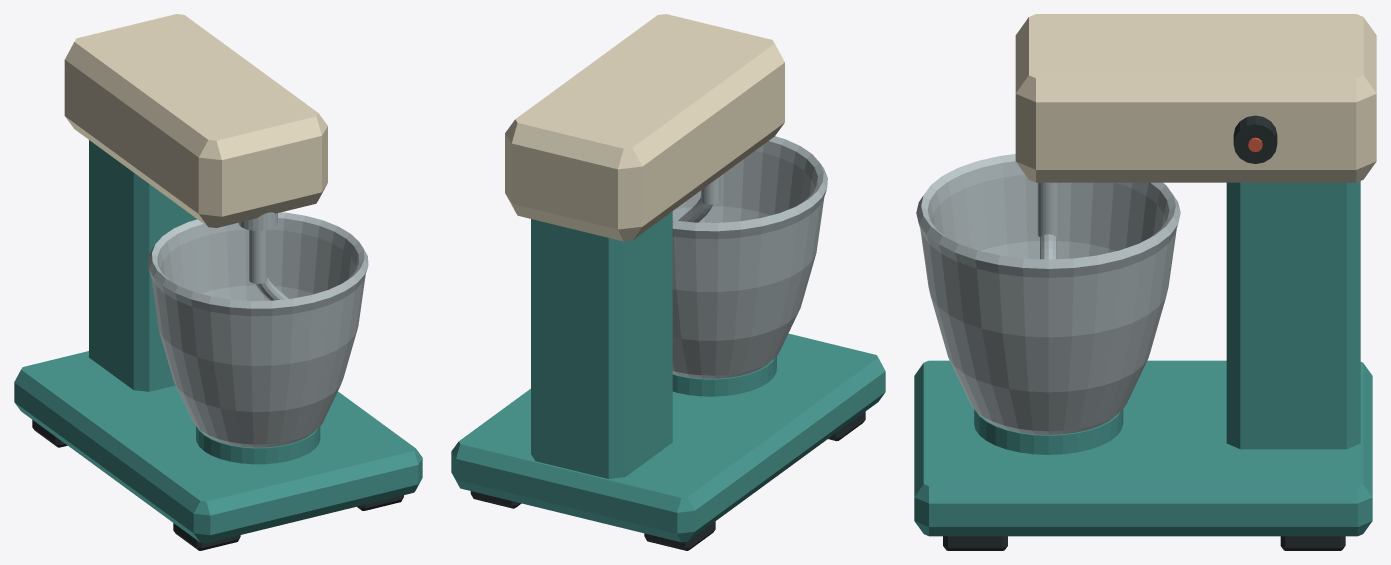
The picture shows the model from 3 angles, left to right: view 1: azimuth 30°, elevation 25°; view 2: azimuth 150°, elevation 25°; view 3: azimuth 270°, elevation 25°; orthographic projection. The views are drawn at different scales.
Visible parts, largest first — view 1: OpenMixingBowl, MotorHead, MixerBase, RearColumn, BowlSupportSeat, DriveShaft, RubberFoot_LeftFront, DriveCollar; view 2: MotorHead, MixerBase, RearColumn, OpenMixingBowl, BowlSupportSeat, RubberFoot_LeftBack; view 3: MotorHead, MixerBase, OpenMixingBowl, RearColumn, BowlSupportSeat, ControlKnob, DriveShaft, RubberFoot_RightBack, RubberFoot_RightFront.
Part boxes in pixels (left/top/right/bottom): OpenMixingBowl: left=148, top=212, right=368, bottom=447; MotorHead: left=64, top=14, right=327, bottom=227; MixerBase: left=14, top=351, right=422, bottom=543; RearColumn: left=89, top=140, right=196, bottom=391; BowlSupportSeat: left=196, top=426, right=320, bottom=464; DriveShaft: left=249, top=230, right=267, bottom=283; RubberFoot_LeftFront: left=173, top=523, right=240, bottom=550; DriveCollar: left=238, top=212, right=277, bottom=230; MotorHead: left=505, top=14, right=784, bottom=241; MixerBase: left=451, top=333, right=885, bottom=542; RearColumn: left=531, top=211, right=672, bottom=478; OpenMixingBowl: left=672, top=136, right=827, bottom=378; BowlSupportSeat: left=672, top=356, right=776, bottom=396; RubberFoot_LeftBack: left=644, top=521, right=715, bottom=550; MotorHead: left=1015, top=14, right=1376, bottom=182; MixerBase: left=914, top=360, right=1372, bottom=536; OpenMixingBowl: left=916, top=154, right=1180, bottom=434; RearColumn: left=1226, top=181, right=1360, bottom=449; BowlSupportSeat: left=974, top=409, right=1123, bottom=454; ControlKnob: left=1233, top=115, right=1277, bottom=163; DriveShaft: left=1037, top=182, right=1059, bottom=237; RubberFoot_RightBack: left=1280, top=536, right=1345, bottom=550; RubberFoot_RightFront: left=943, top=536, right=1007, bottom=550.
Bounding box in the file's own units: 0.39 × 0.606 × 0.57.
